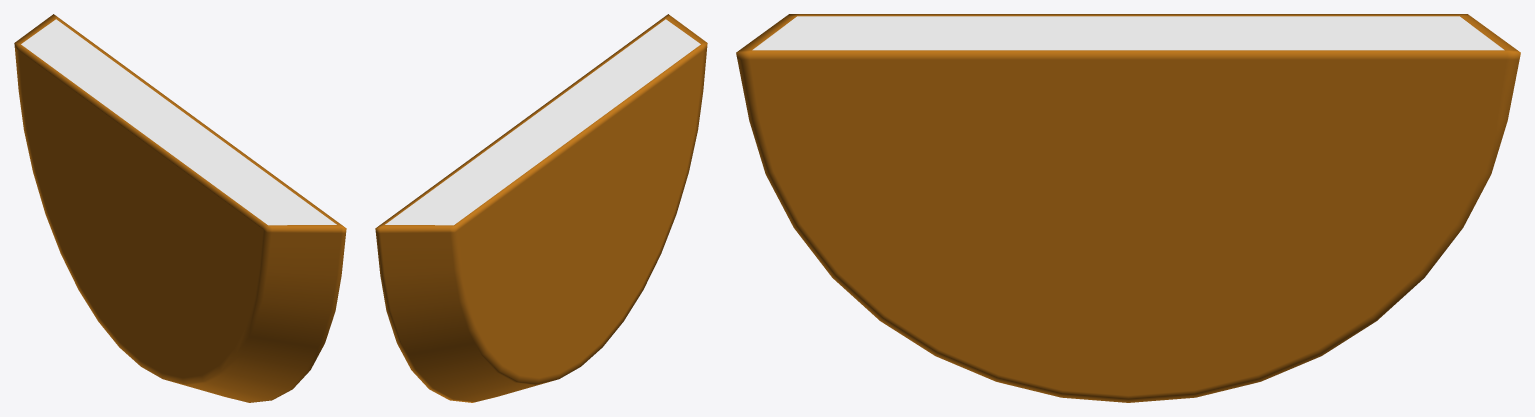
Rendered from Blamp1.fbx.
3 renders of one model, left to right at view 1: azimuth 30°, elevation 25°; view 2: azimuth 150°, elevation 25°; view 3: azimuth 270°, elevation 25°, orthographic. The views are drawn at different scales.
Visible parts, largest first — view 1: Cylinder009; view 2: Cylinder009; view 3: Cylinder009.
Part boxes in pixels (x1,y1,x2,y2): Cylinder009: [14, 14, 346, 402]; Cylinder009: [375, 14, 707, 402]; Cylinder009: [736, 14, 1520, 402].
Size of the model in its own units: 5.89 by 24.85 by 50.48.
